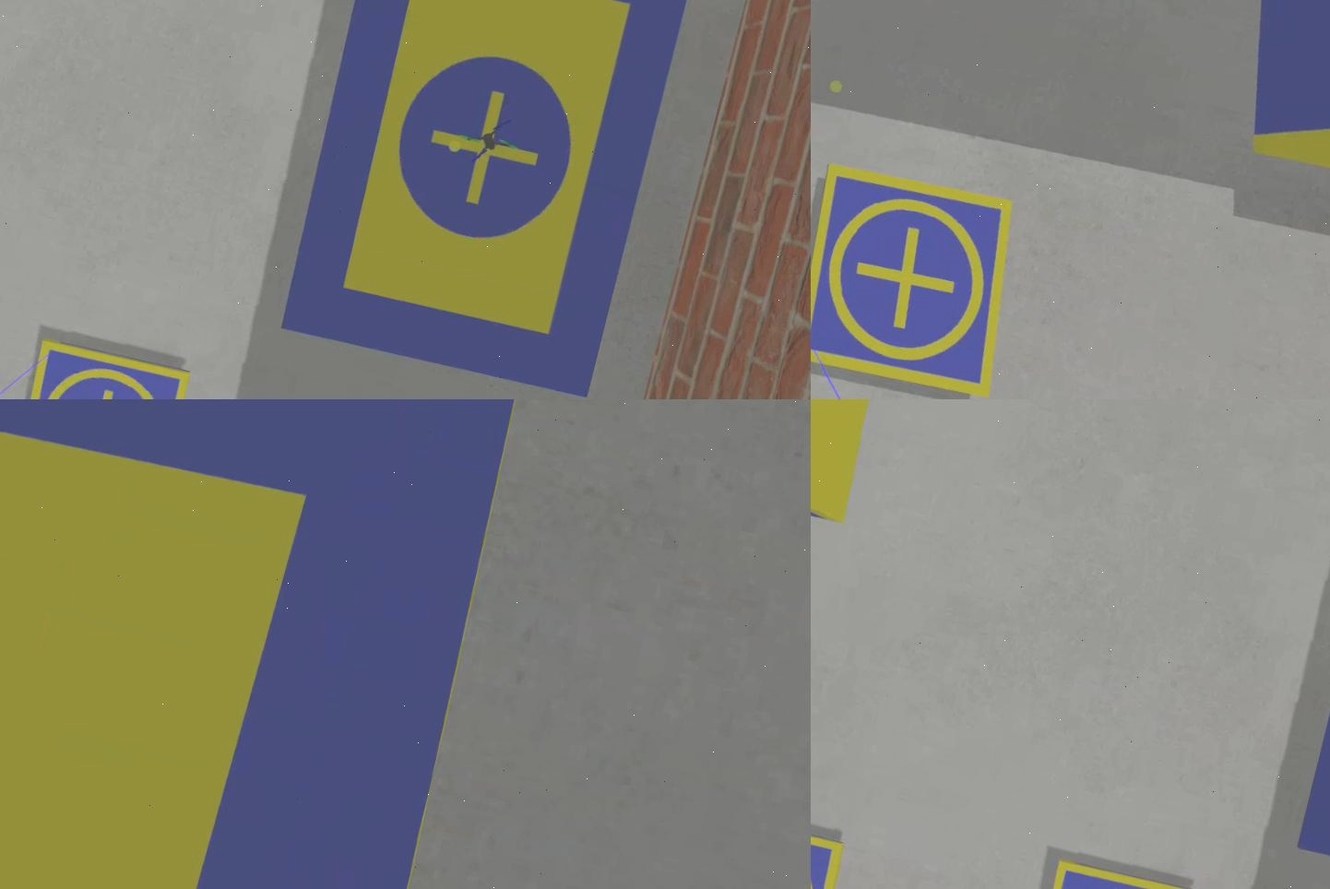large_base: (1, 400, 538, 889), (269, 1, 695, 400)
small_base: (812, 157, 1036, 400), (6, 336, 195, 400)
